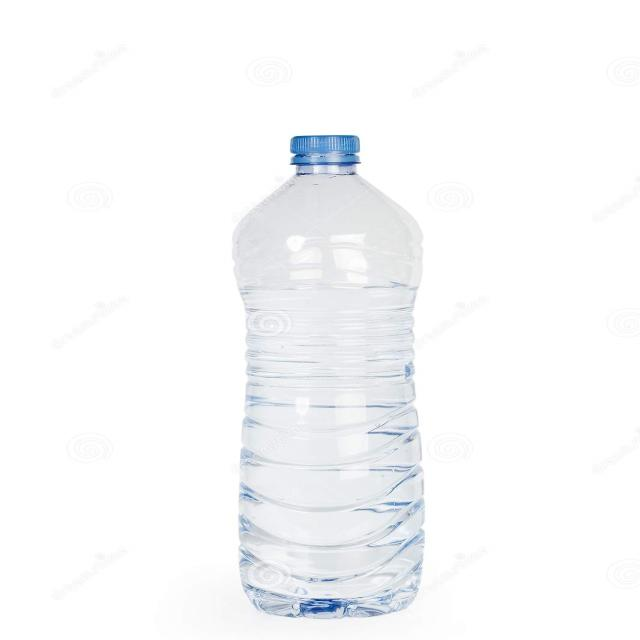plastic bottle: (209, 126, 446, 630)
